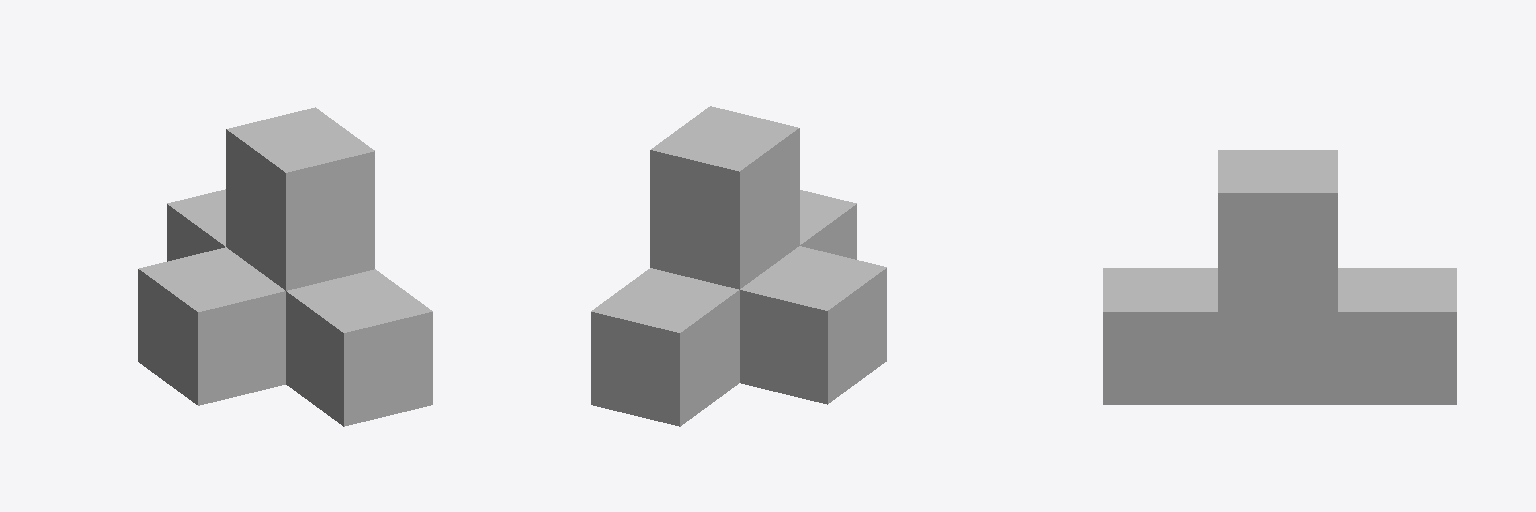
File: ApaAma.obj
3 renders of one model, left to right at view 1: azimuth 30°, elevation 25°; view 2: azimuth 150°, elevation 25°; view 3: azimuth 270°, elevation 25°, orthographic.
Visible parts, largest first — view 1: Cube.003; view 2: Cube.003; view 3: Cube.003.
Boxes of the visible parts, <box> form: Cube.003: <box>138,107,432,426</box>; Cube.003: <box>591,106,886,426</box>; Cube.003: <box>1103,150,1456,404</box>.
Bounding box in the file's own units: 23.42 × 26.71 × 40.53.